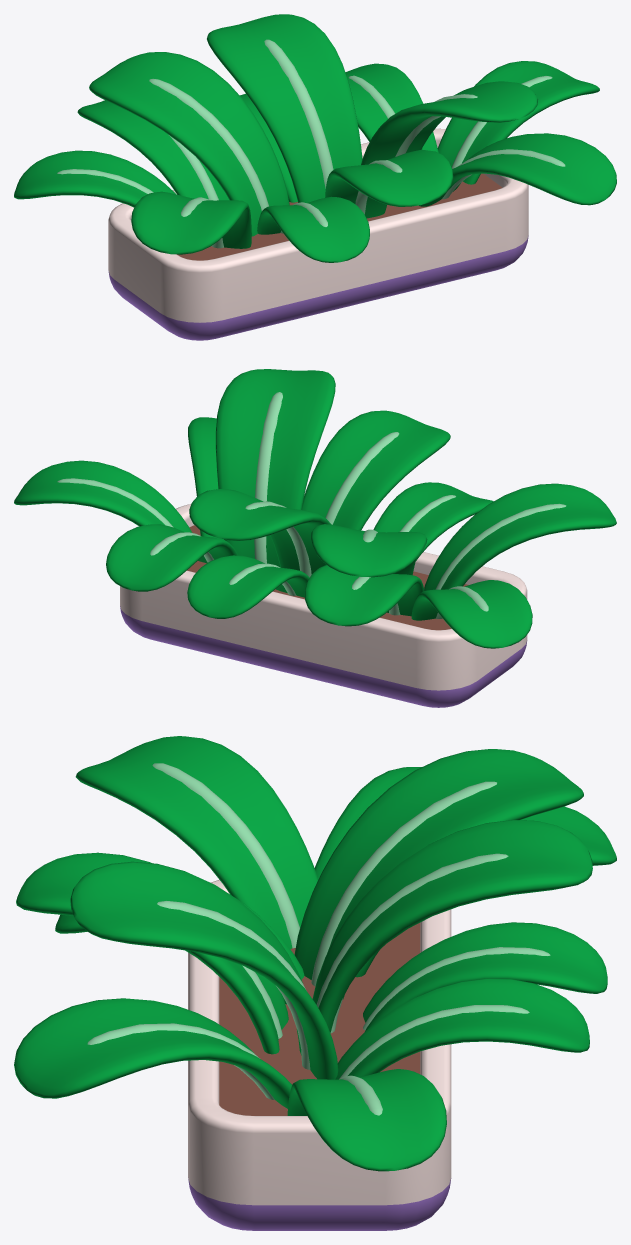
The model's file is City_13_Plant_2.glb.
The picture shows the model from 3 angles, top to bottom: view 1: azimuth 30°, elevation 25°; view 2: azimuth 150°, elevation 25°; view 3: azimuth 270°, elevation 25°; orthographic projection. The views are drawn at different scales.
Visible parts, largest first — view 1: City_13_Plant_2; view 2: City_13_Plant_2; view 3: City_13_Plant_2.
Part boxes in pixels (x1,y1,x2,y2): City_13_Plant_2: (14, 14, 616, 340); City_13_Plant_2: (14, 369, 616, 707); City_13_Plant_2: (14, 736, 616, 1230).
Bounding box in the file's own units: 2.37 × 0.8625 × 1.57.
Materials: 1 (1 with a texture image).
